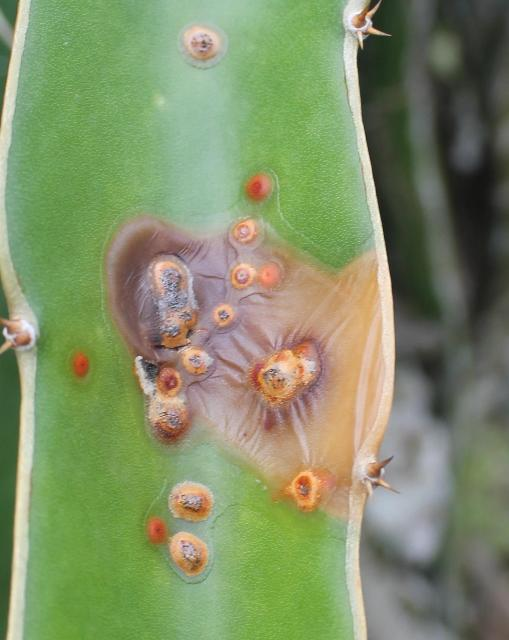stemcanker: (2, 2, 397, 640)
